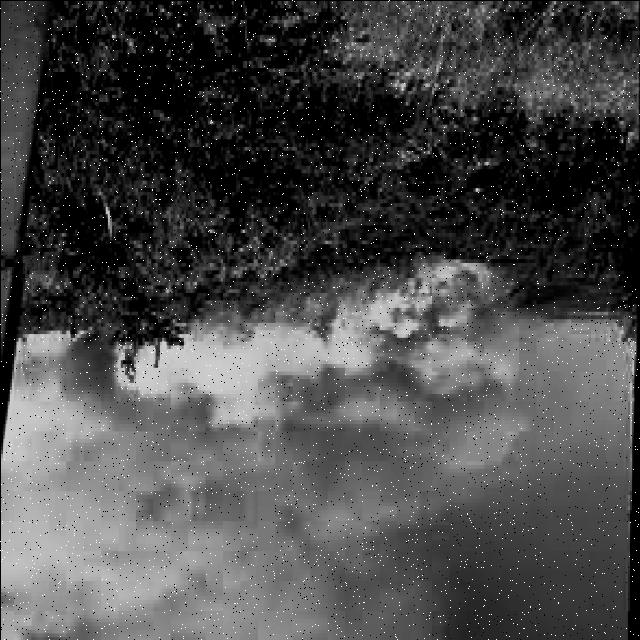asap: (1, 279, 552, 640)
